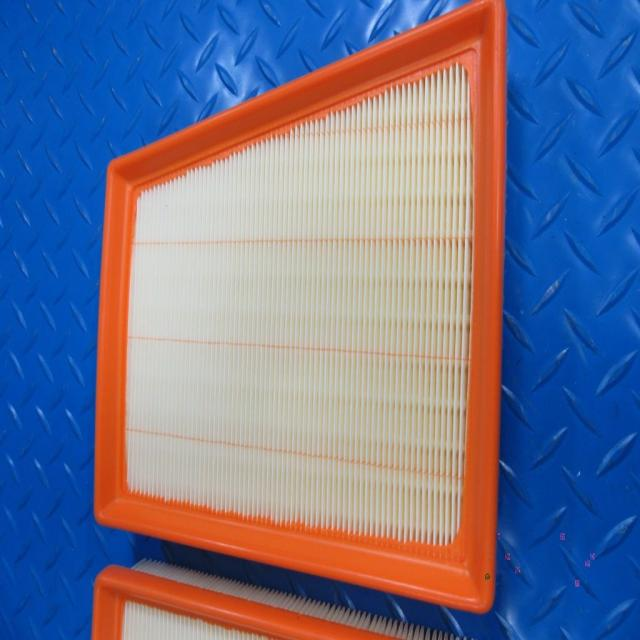air_filter: (92, 0, 515, 536)
